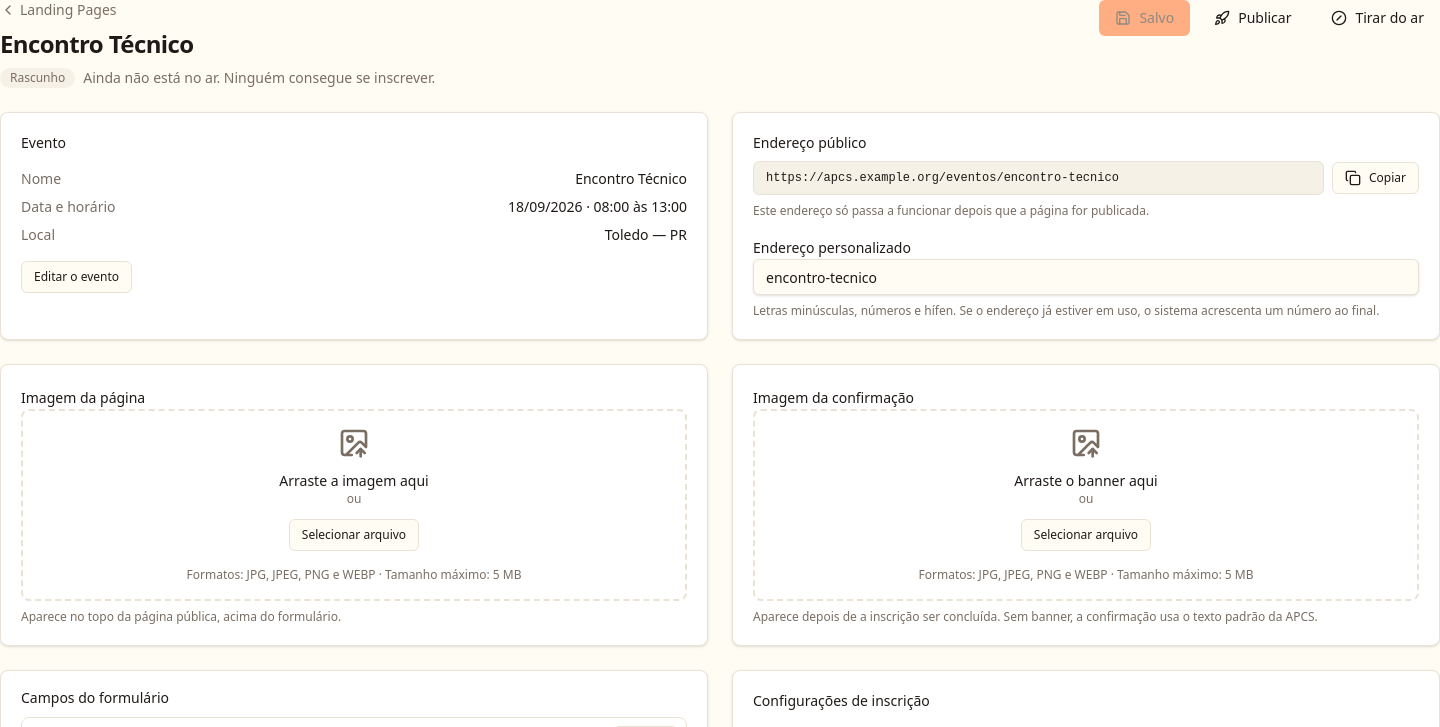
Test: salvar (§22, §28) › avisa quando o servidor devolve um endereço diferente do pedido
The image size is (1440, 727).
Clear the field labelled "Endereço personalizado" at {"x": 1086, "y": 277}, box [753,259,1419,295]
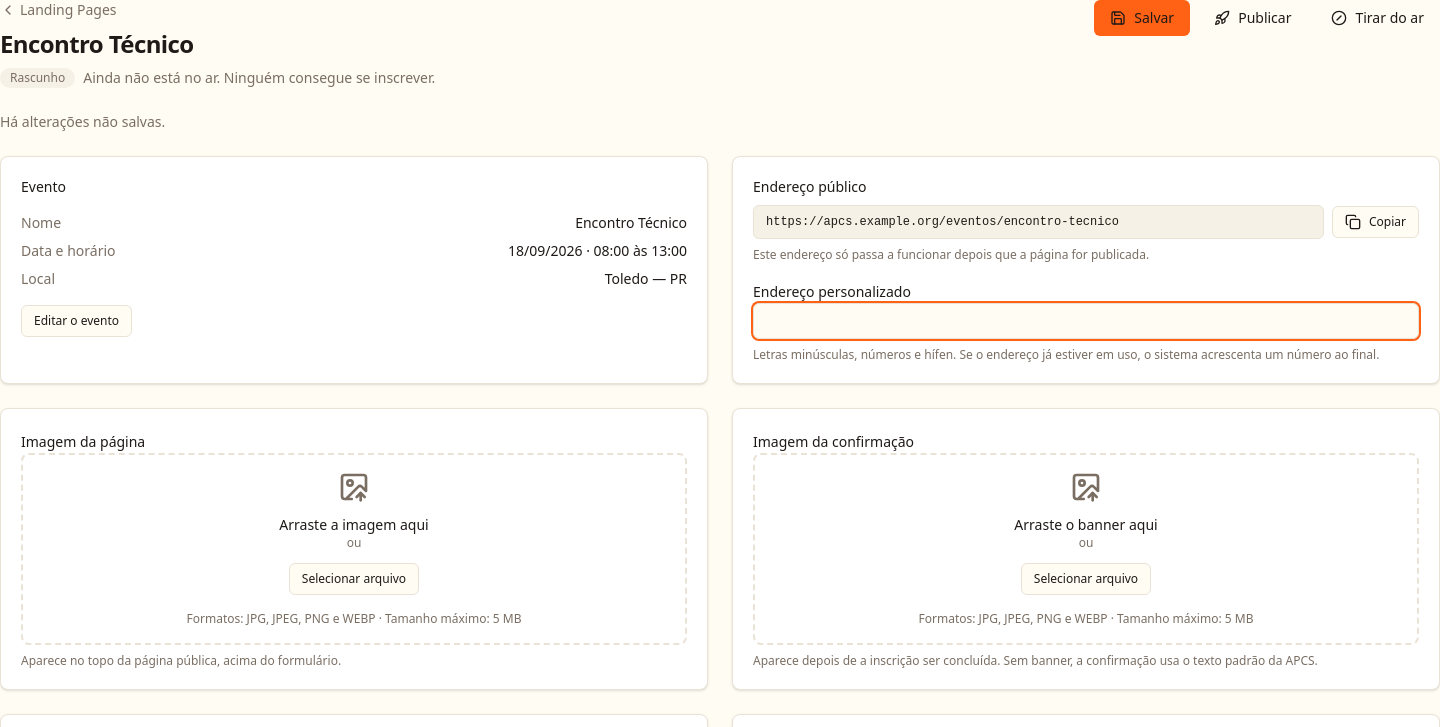
Type "encontro" into the field labelled "Endereço personalizado" at {"x": 1086, "y": 321}, box [753,303,1419,339]
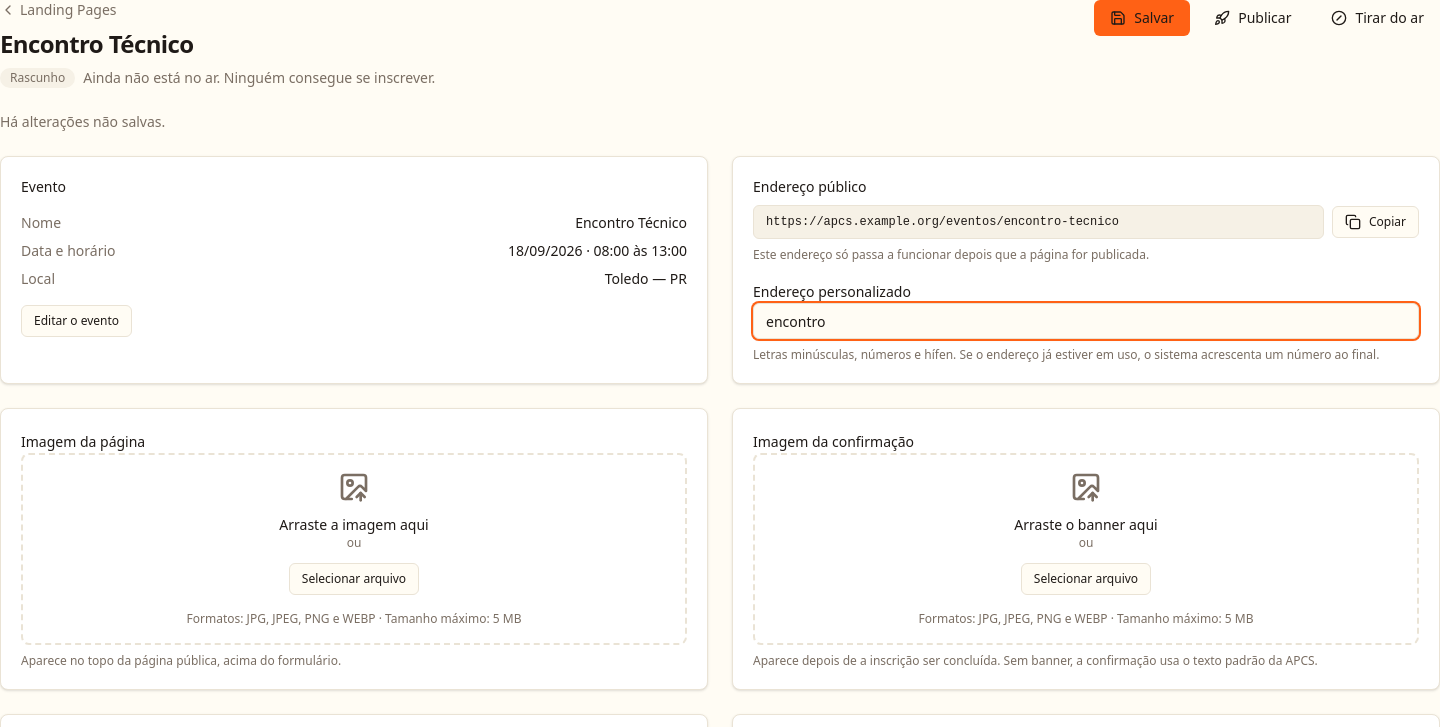
Click the button "Salvar" at {"x": 1142, "y": 18}, box [1094,0,1190,36]
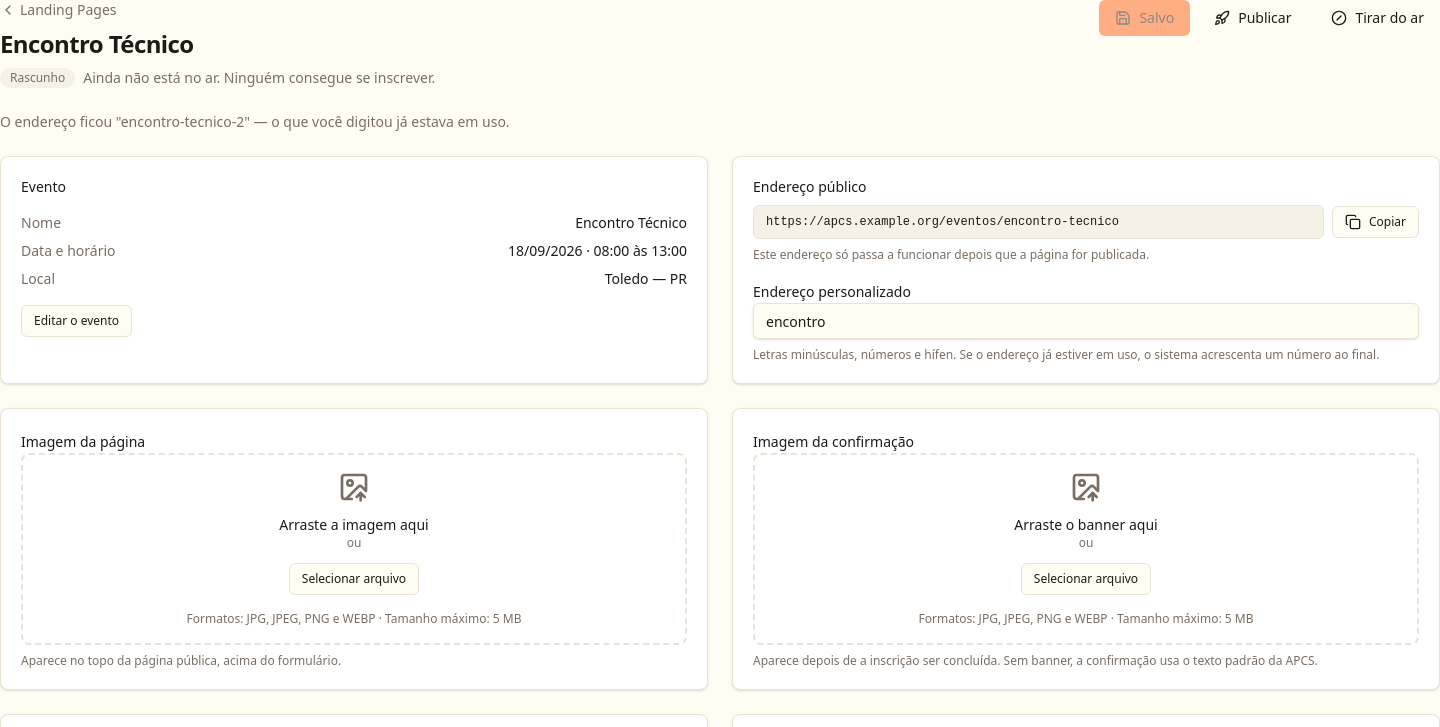
Expected: the text "O endereço ficou \"encontro-tecnico-2\" — o que você digitou já estava em uso." is shown, [0,112,510,131]
